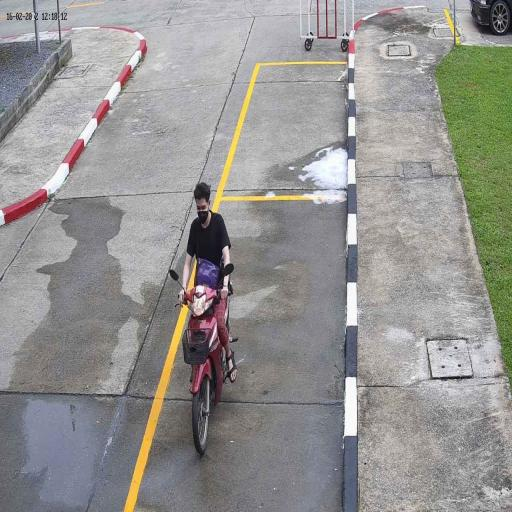motorcycle: (180, 282, 231, 458)
